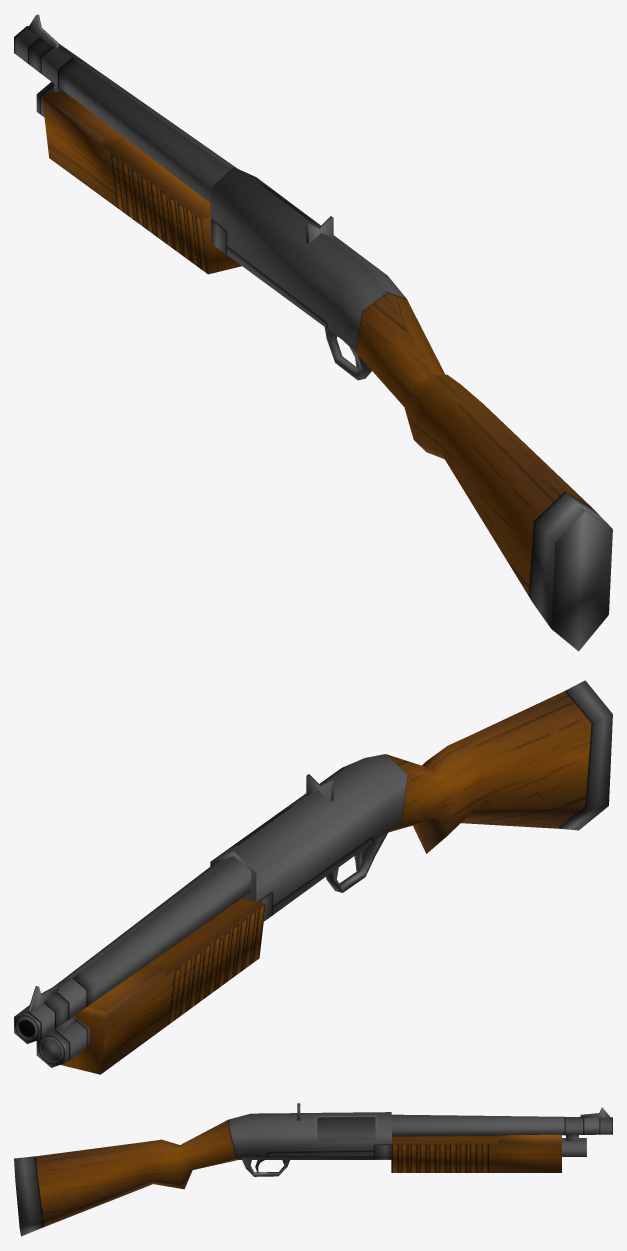
3 views of the same model, one above another, from view 1: azimuth 30°, elevation 25°; view 2: azimuth 150°, elevation 25°; view 3: azimuth 270°, elevation 25° (orthographic). The views are drawn at different scales.
Parts seen in each view (by area): view 1: body, mover_pump; view 2: body, mover_pump; view 3: body, mover_pump.
Boxes of the visible parts, bbox=[...] form: body: bbox=[14, 14, 612, 651]; mover_pump: bbox=[42, 90, 241, 274]; body: bbox=[14, 680, 612, 1067]; mover_pump: bbox=[60, 898, 265, 1074]; body: bbox=[14, 1103, 612, 1236]; mover_pump: bbox=[391, 1134, 561, 1172].
Bounding box in the file's own units: 0.0519 × 0.1872 × 0.7818.
1 material, 1 textured.
